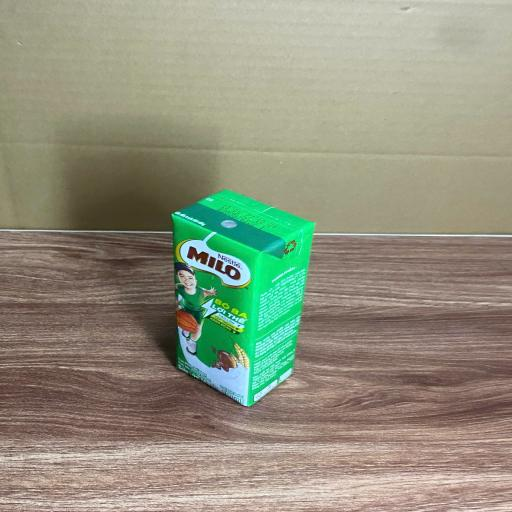milo: (171, 189, 314, 408)
